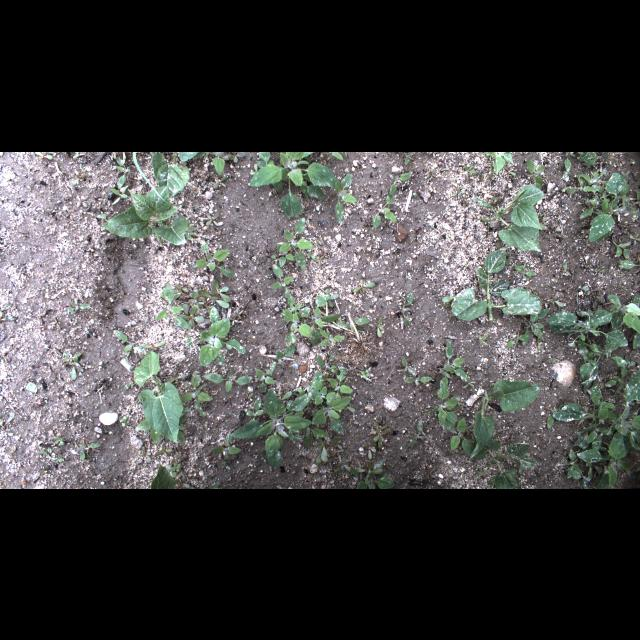crop: (450, 246, 540, 320), (133, 351, 193, 445), (470, 379, 540, 458), (102, 184, 188, 246), (471, 182, 545, 252), (469, 436, 537, 488), (152, 152, 200, 196), (482, 151, 514, 179), (148, 462, 182, 488)
weed: (230, 390, 312, 468), (249, 152, 339, 216), (330, 422, 396, 488), (579, 172, 639, 240), (187, 306, 246, 366), (546, 305, 630, 347), (552, 377, 600, 443), (577, 429, 631, 487), (576, 339, 632, 393), (595, 369, 639, 435), (132, 152, 180, 208), (179, 278, 231, 328), (587, 293, 639, 335), (304, 292, 344, 346), (277, 216, 315, 270), (574, 406, 620, 449), (428, 342, 469, 386), (192, 238, 236, 278), (152, 286, 192, 330), (313, 394, 353, 434), (282, 294, 314, 344), (180, 370, 213, 418), (428, 383, 458, 429), (520, 305, 552, 345), (334, 172, 358, 224), (204, 369, 252, 393), (210, 429, 242, 465), (255, 151, 283, 191), (369, 192, 398, 230), (112, 328, 154, 354), (310, 353, 338, 391), (307, 379, 343, 408), (326, 366, 352, 406), (315, 434, 345, 464), (580, 400, 608, 432), (614, 421, 640, 453), (522, 158, 546, 192), (254, 361, 278, 394), (272, 262, 294, 298), (450, 418, 472, 454), (296, 424, 330, 446), (543, 402, 571, 428), (60, 350, 84, 380), (52, 297, 90, 315), (196, 152, 227, 174), (114, 154, 134, 188), (560, 448, 582, 478), (74, 441, 102, 463), (38, 447, 68, 467), (388, 172, 412, 196), (275, 340, 297, 366), (406, 419, 426, 447), (602, 367, 628, 388), (608, 232, 630, 256), (563, 177, 595, 193), (246, 398, 264, 426), (575, 170, 613, 183), (164, 457, 186, 479), (276, 243, 296, 267), (400, 293, 414, 327), (188, 286, 205, 314), (336, 316, 370, 330), (109, 183, 129, 205), (570, 468, 592, 488), (631, 294, 639, 348), (507, 326, 528, 346), (319, 330, 345, 346), (352, 278, 376, 294), (512, 260, 536, 276), (319, 289, 339, 307), (600, 440, 616, 462), (401, 357, 417, 375), (585, 462, 603, 478), (166, 372, 186, 386), (610, 381, 624, 401), (203, 211, 220, 227), (372, 316, 384, 338), (592, 430, 604, 452), (185, 219, 198, 239), (140, 340, 166, 350), (422, 466, 438, 482), (70, 172, 88, 186), (274, 390, 292, 404), (34, 152, 54, 164), (531, 330, 543, 350), (564, 151, 576, 171), (578, 152, 598, 164), (450, 187, 468, 200), (403, 376, 432, 384), (154, 445, 173, 457), (138, 445, 152, 461), (548, 294, 564, 308), (74, 194, 90, 208), (48, 314, 62, 330), (617, 259, 639, 269), (211, 175, 227, 188), (226, 152, 246, 162), (321, 152, 345, 160), (464, 164, 476, 180), (476, 332, 489, 346), (52, 434, 66, 446), (403, 151, 415, 165), (627, 406, 639, 420), (561, 260, 571, 276), (628, 230, 640, 243), (228, 314, 240, 326), (120, 414, 130, 428), (249, 162, 259, 176), (504, 166, 516, 176), (232, 308, 244, 318), (492, 189, 502, 201), (175, 284, 189, 292), (360, 368, 370, 379), (474, 467, 484, 477), (426, 167, 436, 177), (314, 255, 324, 265), (597, 266, 607, 274), (440, 162, 450, 170), (207, 482, 219, 488), (123, 382, 131, 391), (182, 482, 194, 488), (462, 198, 470, 206), (546, 358, 560, 362), (357, 328, 365, 334), (318, 236, 324, 244), (308, 252, 316, 258), (388, 462, 394, 468), (266, 272, 272, 278), (411, 190, 417, 196)
